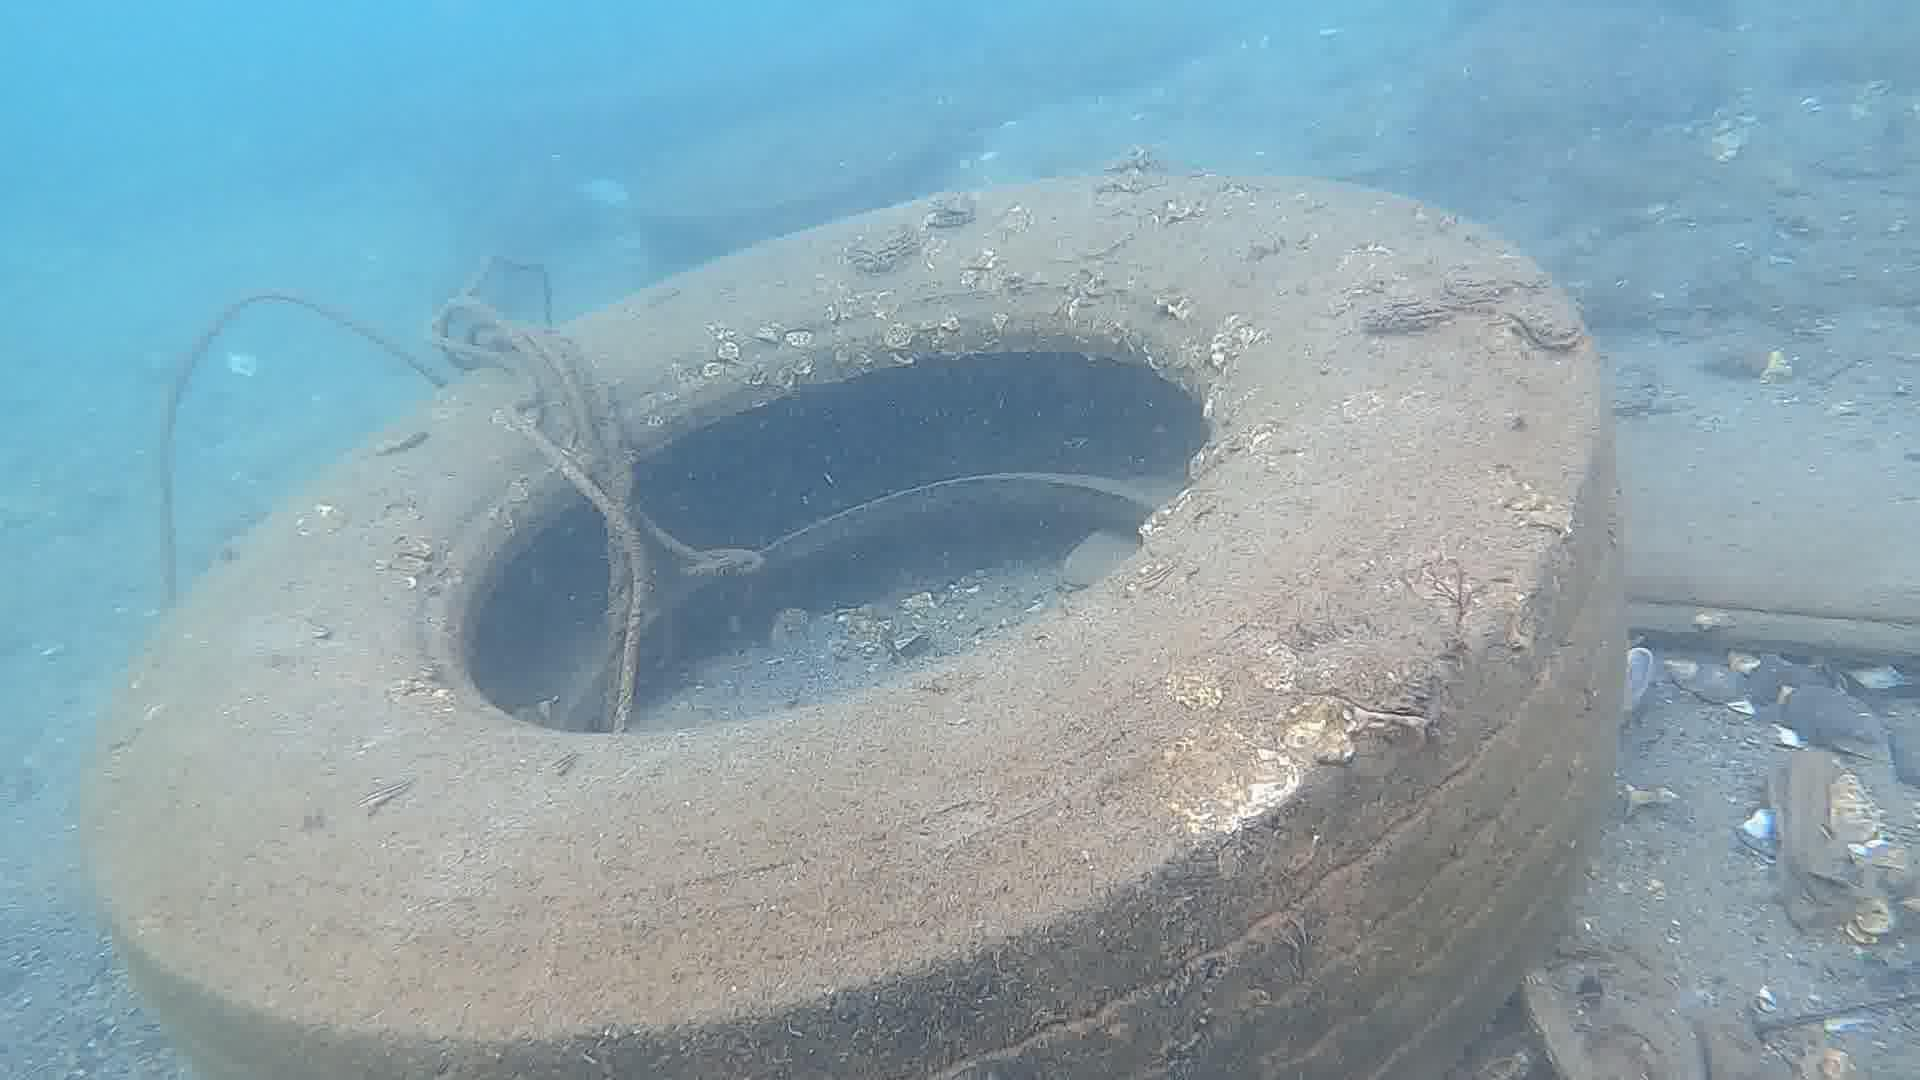bundle of ropes: (156, 252, 766, 723)
tire: (94, 160, 1629, 1079)
